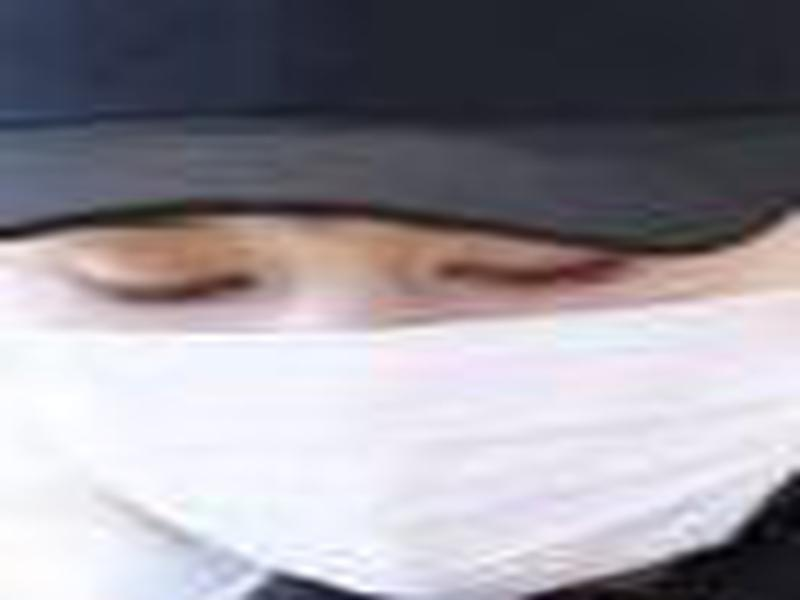with_mask: (1, 203, 799, 600)
